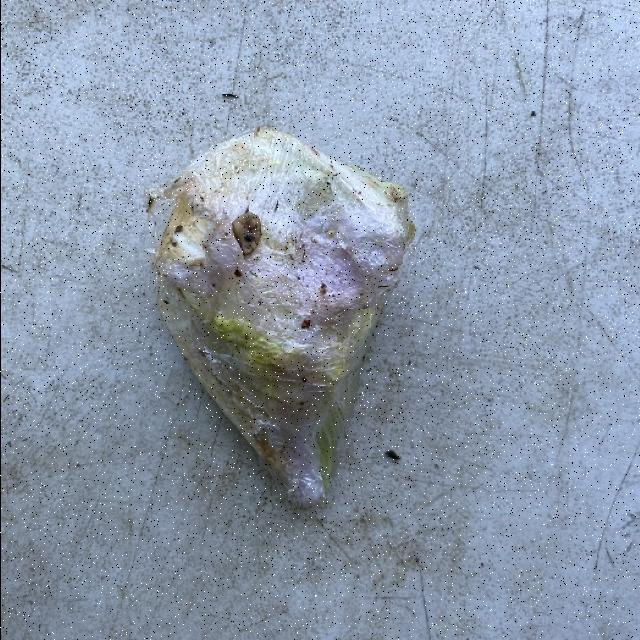organik: (152, 120, 402, 506)
